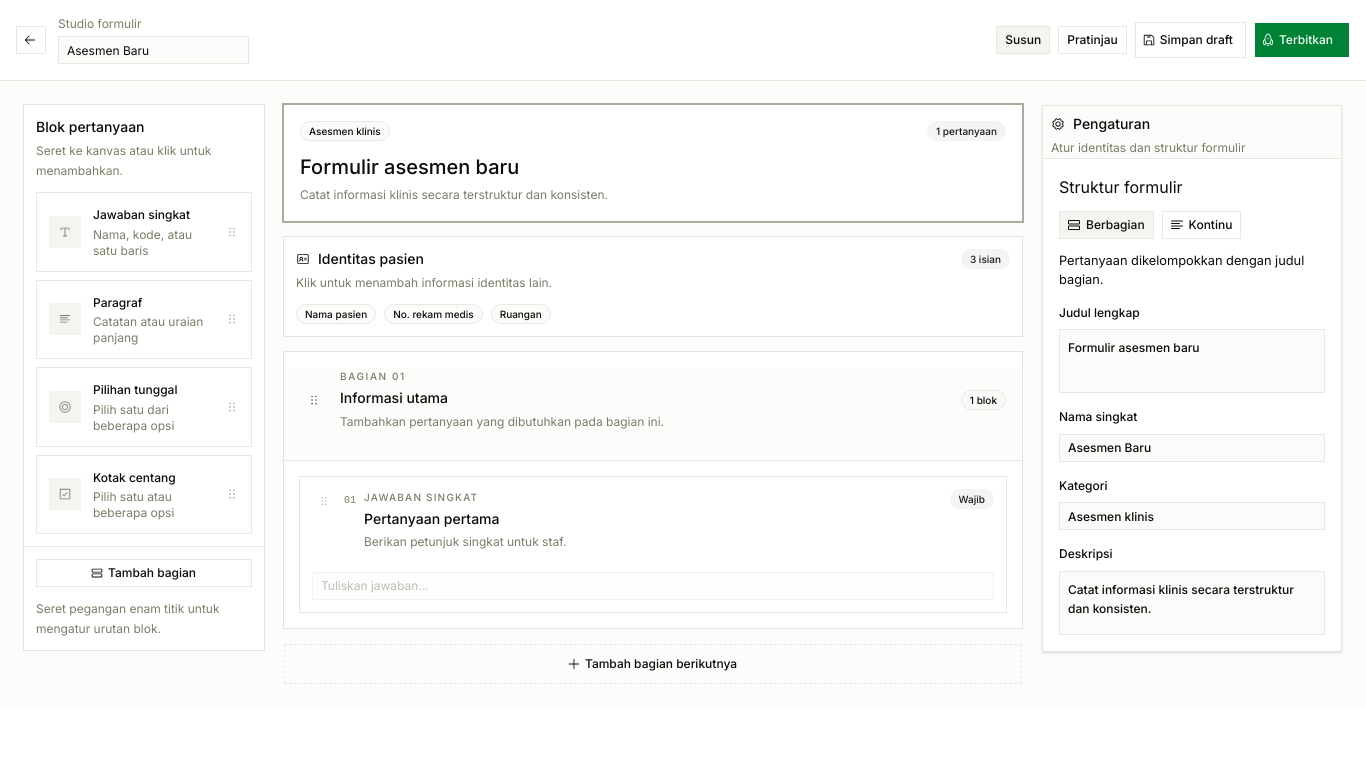
it: FormBuilder › adds a draggable question block from the palette
The width and height of the screenshot is (1366, 768).
Step 1. Click the button with aria-label "Seret atau klik untuk menambah Paragraf" → (144, 319), box [36, 280, 252, 359]
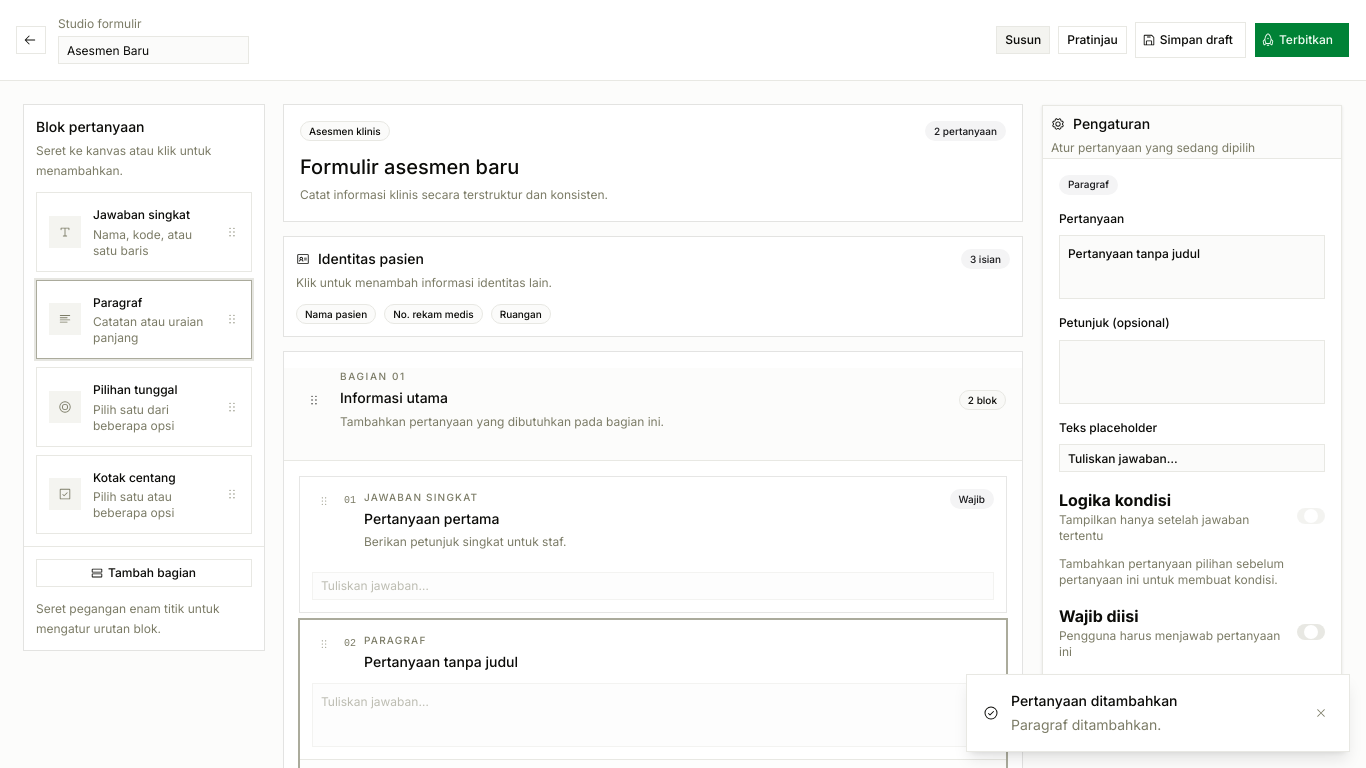
Expected: the text "Paragraf ditambahkan." is shown, [1011, 716, 1161, 733]
Expected: the text "Pertanyaan tanpa judul" is shown 2 times, [364, 653, 518, 670]; [1059, 235, 1325, 299]
Expected: the number of buttons named "Seret untuk memindahkan pertanyaan Pertanyaan tanpa judul" is 1, [312, 632, 336, 656]
